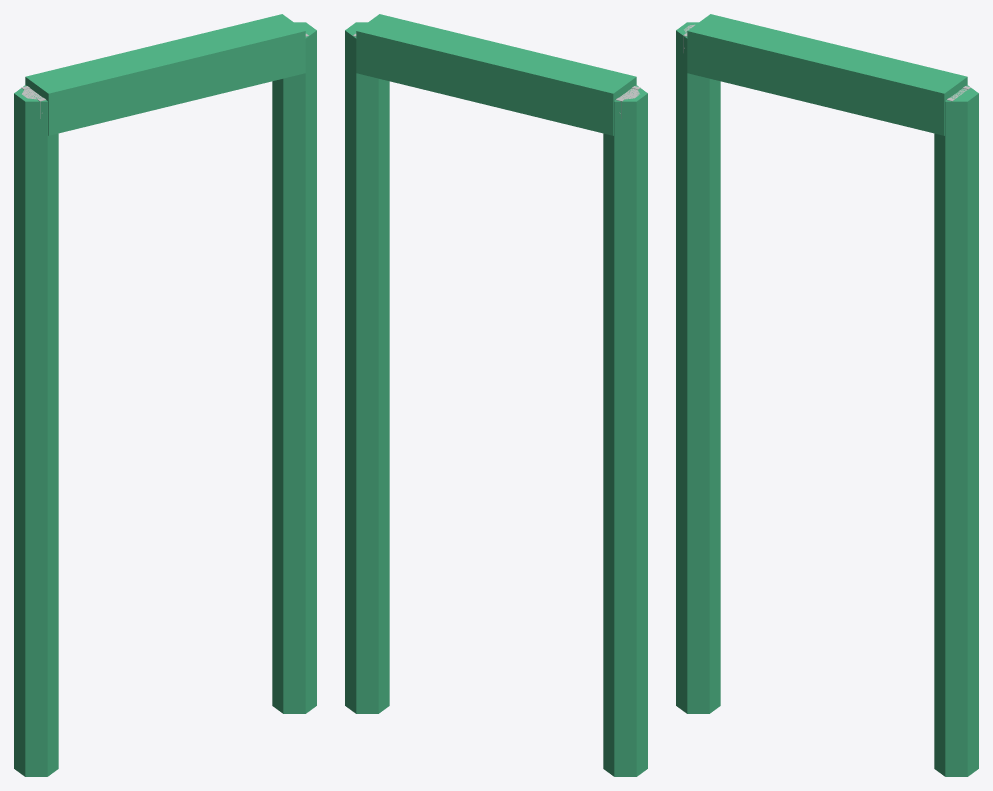
Rendered from ruinedpier_01_e.dae.
The picture shows the model from 3 angles, left to right: view 1: azimuth 30°, elevation 25°; view 2: azimuth 150°, elevation 25°; view 3: azimuth 330°, elevation 25°; orthographic projection.
Parts seen in each view (by area): view 1: Colmesh-1; view 2: Colmesh-1; view 3: Colmesh-1.
Boxes of the visible parts, bbox=[...] form: Colmesh-1: bbox=[14, 14, 316, 776]; Colmesh-1: bbox=[345, 14, 647, 776]; Colmesh-1: bbox=[676, 14, 978, 776].
Bounding box in the file's own units: 4.52 × 0.6244 × 10.12.
